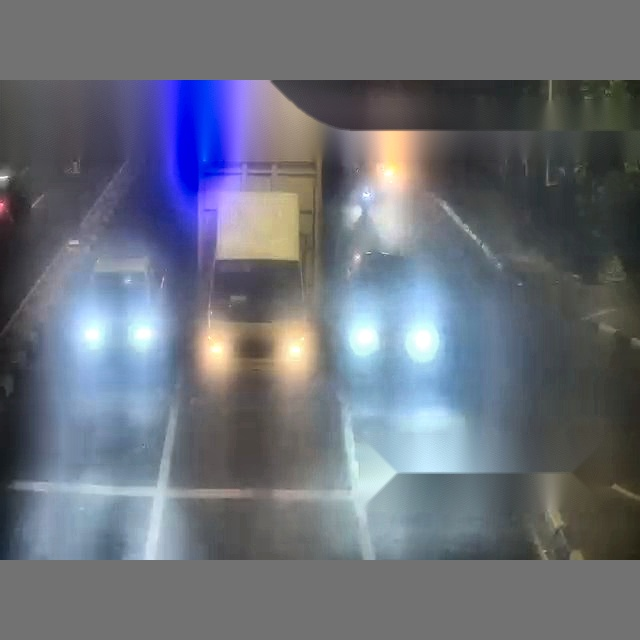Bis: (336, 234, 640, 557)
